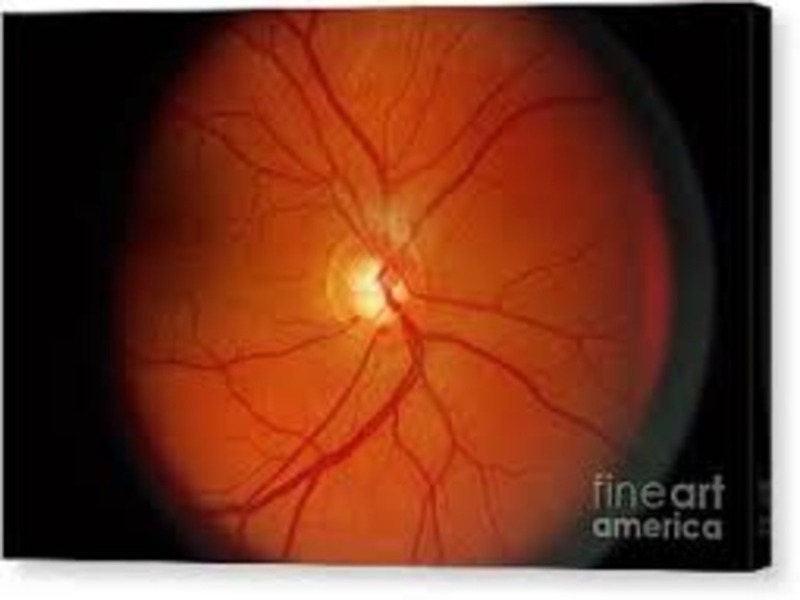Optic Cup: (355, 262, 385, 313)
Optic Disc: (325, 224, 429, 339)
